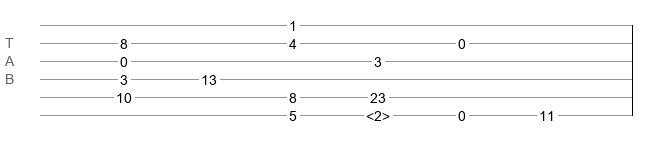0: (120, 54, 128, 64), (458, 36, 466, 46), (458, 108, 466, 118)
1: (289, 18, 297, 28)
10: (116, 90, 132, 100)
11: (539, 108, 555, 118)
13: (201, 72, 217, 82)
23: (370, 90, 386, 100)
3: (120, 72, 128, 82), (374, 54, 382, 64)
4: (289, 36, 297, 46)
5: (289, 108, 297, 118)
8: (120, 36, 128, 46), (289, 90, 297, 100)
harmonic: (366, 108, 390, 118)
